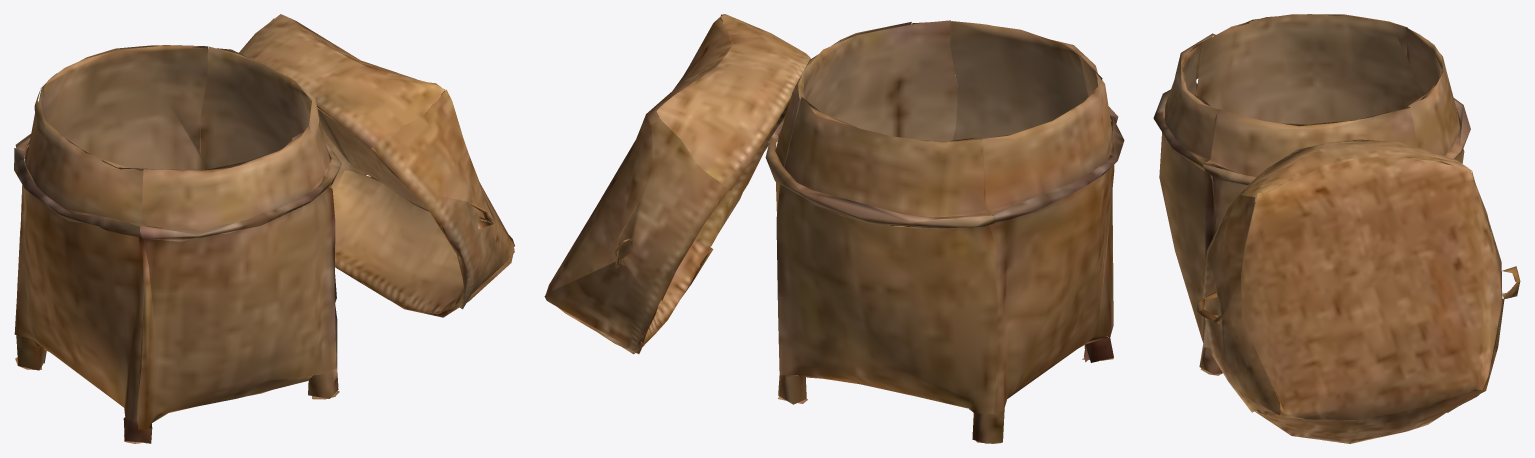
Rendered from basket-lightweight-5e66c529d6.glb.
3 renders of one model, left to right at view 1: azimuth 30°, elevation 25°; view 2: azimuth 150°, elevation 25°; view 3: azimuth 270°, elevation 25°, orthographic. The views are drawn at different scales.
Visible parts, largest first — view 1: wicker_basket_02_base; view 2: wicker_basket_02_base; view 3: wicker_basket_02_base.
Part boxes in pixels (left/top/right/bottom): wicker_basket_02_base: left=14, top=14, right=514, bottom=443; wicker_basket_02_base: left=544, top=14, right=1124, bottom=443; wicker_basket_02_base: left=1153, top=14, right=1520, bottom=443.
Bounding box in the file's own units: 0.3471 × 0.2016 × 0.2529.
1 material, 1 textured.
